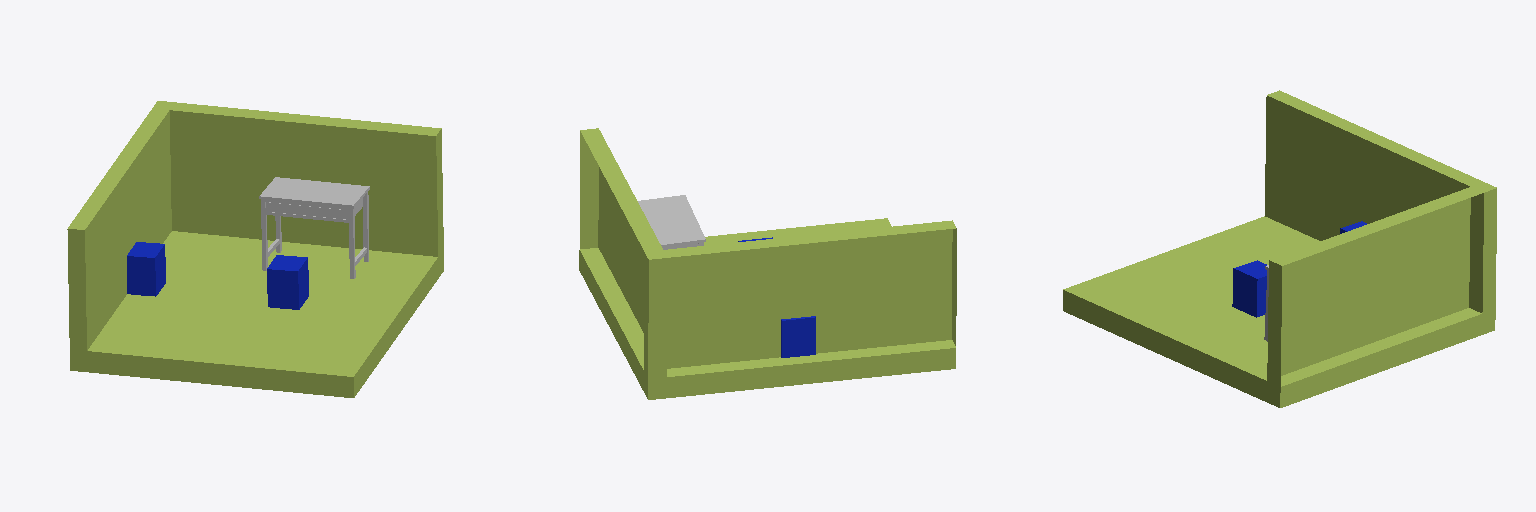
The model's file is room1.obj.
The picture shows the model from 3 angles: view 1: azimuth 30°, elevation 25°; view 2: azimuth 150°, elevation 25°; view 3: azimuth 270°, elevation 25°; orthographic projection.
Parts seen in each view (by area): view 1: Mesh; view 2: Mesh; view 3: Mesh.
Boxes of the visible parts, x1,y1,x2,y2 form: Mesh: [67, 101, 443, 397]; Mesh: [579, 128, 956, 399]; Mesh: [1063, 90, 1496, 407].
Size of the model in its own units: 5.11 by 2.1 by 5.11.